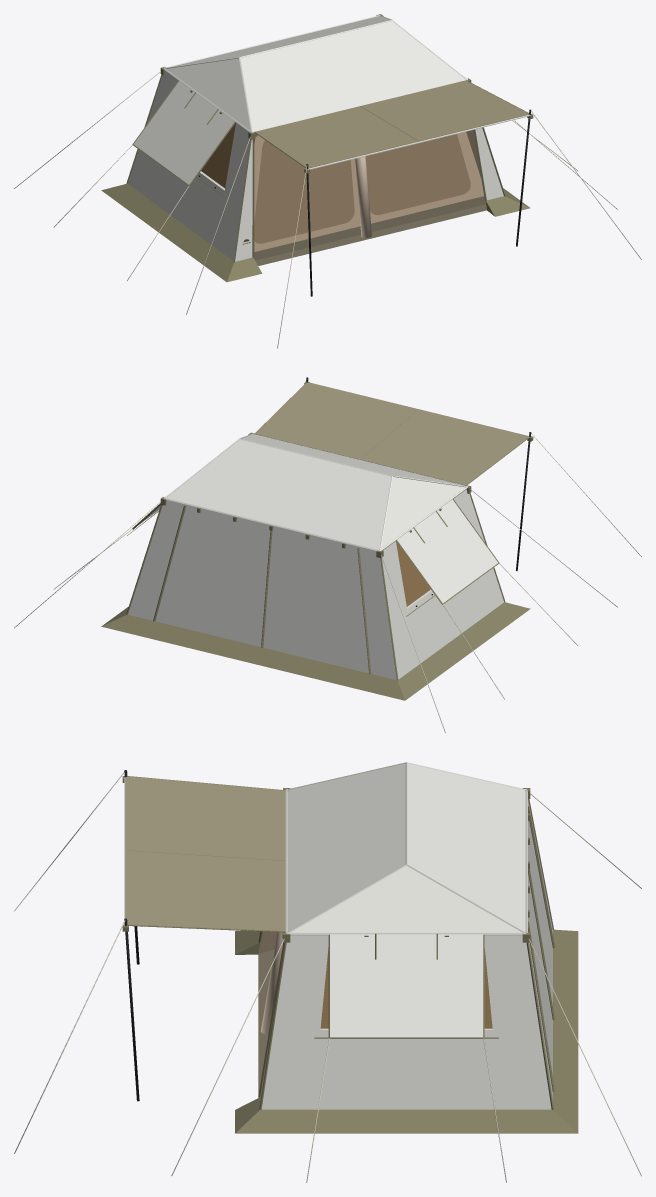
File: naturehike-village-8-5.glb
3 views of the same model, one above another, from view 1: azimuth 30°, elevation 25°; view 2: azimuth 150°, elevation 25°; view 3: azimuth 270°, elevation 25° (orthographic). The views are drawn at different scales.
Parts seen in each view (by area): view 1: naturehike-village-8-5-fly, naturehike-village-8-5-mesh, naturehike-village-8-5-awning, naturehike-village-8-5-skirt, naturehike-village-8-5-tub, naturehike-village-8-5-frame, naturehike-village-8-5-guy, naturehike-village-8-5-winmesh, naturehike-village-8-5-pillar, naturehike-village-8-5-pole; view 2: naturehike-village-8-5-fly, naturehike-village-8-5-awning, naturehike-village-8-5-skirt, naturehike-village-8-5-guy, naturehike-village-8-5-winmesh; view 3: naturehike-village-8-5-fly, naturehike-village-8-5-awning, naturehike-village-8-5-skirt, naturehike-village-8-5-guy, naturehike-village-8-5-tub, naturehike-village-8-5-pillar, naturehike-village-8-5-winmesh, naturehike-village-8-5-pole.
Boxes of the visible parts, x1,y1,x2,y2 form: naturehike-village-8-5-fly: (127, 15, 530, 261); naturehike-village-8-5-mesh: (254, 134, 470, 243); naturehike-village-8-5-awning: (255, 80, 528, 168); naturehike-village-8-5-skirt: (101, 14, 533, 282); naturehike-village-8-5-tub: (253, 196, 503, 275); naturehike-village-8-5-frame: (254, 130, 486, 251); naturehike-village-8-5-guy: (14, 71, 641, 348); naturehike-village-8-5-winmesh: (201, 123, 235, 188); naturehike-village-8-5-pillar: (355, 156, 371, 237); naturehike-village-8-5-pole: (199, 109, 531, 296); naturehike-village-8-5-fly: (128, 433, 503, 680); naturehike-village-8-5-awning: (255, 382, 528, 485); naturehike-village-8-5-skirt: (101, 382, 533, 700); naturehike-village-8-5-guy: (14, 380, 641, 733); naturehike-village-8-5-winmesh: (396, 541, 430, 606); naturehike-village-8-5-fly: (124, 762, 552, 1109); naturehike-village-8-5-awning: (125, 776, 285, 932); naturehike-village-8-5-skirt: (122, 776, 578, 1133); naturehike-village-8-5-guy: (14, 772, 641, 1182); naturehike-village-8-5-tub: (235, 948, 274, 1115); naturehike-village-8-5-pillar: (260, 932, 282, 1035); naturehike-village-8-5-winmesh: (320, 947, 492, 1028); naturehike-village-8-5-pole: (124, 770, 139, 1101).
Bounding box in the file's own units: 5.76 × 1.97 × 5.08.
